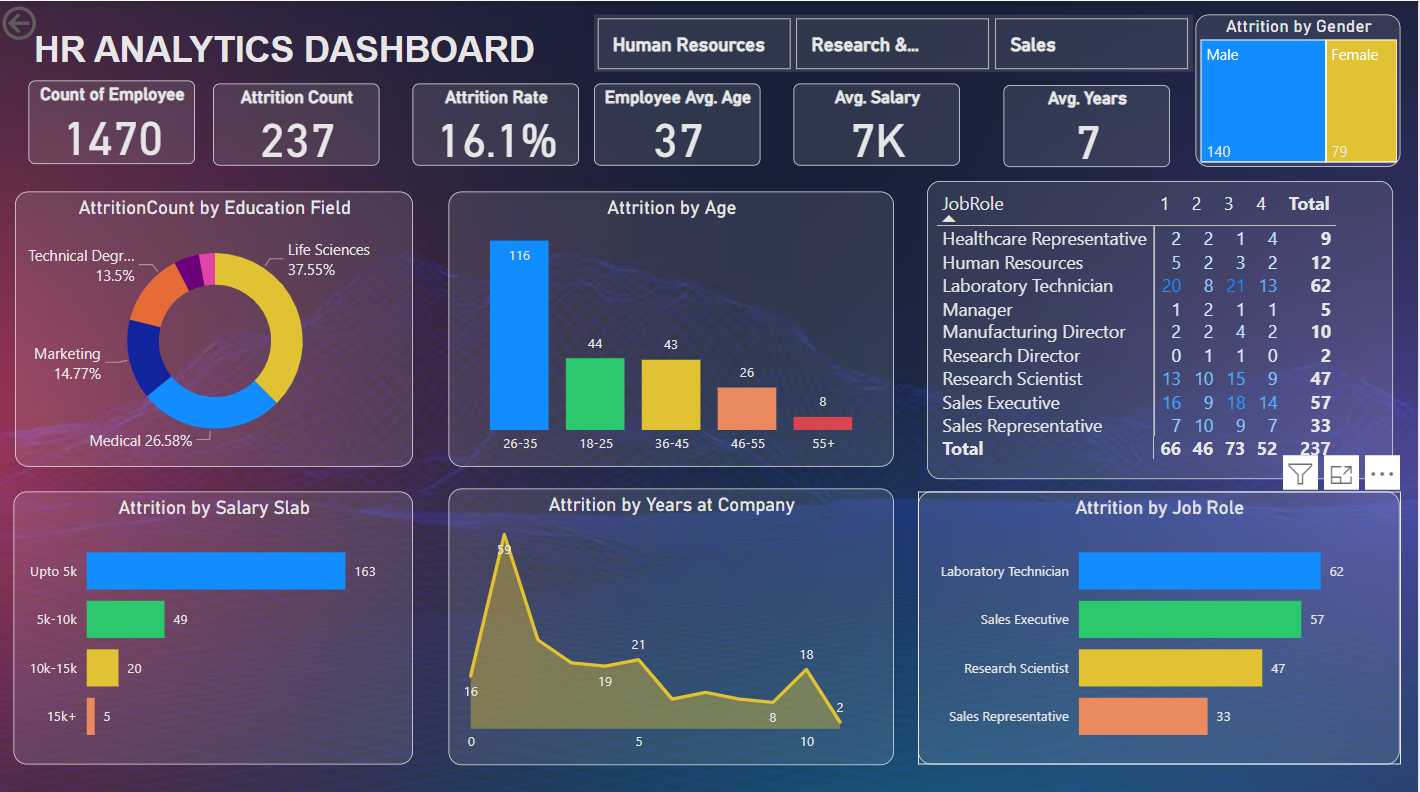

The dashboard page shown, as its layout file describes it:
{"tool":"powerbi","page":{"name":"Page 1","canvas":[1280,720],"ordinal":0},"visuals":[{"type":"card","title":"Count of Employee","fields":{"Values":["CountNonNull(HR_Analytics.EmpID)"]},"box":[28.6,71.8,150,75],"z":0},{"type":"card","title":"Attrition Count","fields":{"Values":["Sum(HR_Analytics.AttritionCount)"]},"box":[194.2,74.2,150,74.2],"z":1000},{"type":"card","title":"Attrition Rate","fields":{"Values":["HR_Analytics.AttritionRate"]},"box":[374.2,74.2,150,74.2],"z":2000},{"type":"card","title":"Employee Avg. Age ","fields":{"Values":["Avg(HR_Analytics.Age)"]},"box":[538.4,74.2,150,74.2],"z":3000},{"type":"card","title":"Avg. Salary","fields":{"Values":["Avg(HR_Analytics.MonthlyIncome)"]},"box":[718.4,74.2,150,74.2],"z":4000},{"type":"card","title":"Avg. Years","fields":{"Values":["Avg(HR_Analytics.YearsAtCompany)"]},"box":[906.3,75.8,150,74.2],"z":5000},{"type":"donutChart","title":"AttritionCount by Education Field","fields":{"Category":["HR_Analytics.EducationField"],"Y":["Sum(HR_Analytics.AttritionCount)"]},"box":[15.8,172.1,358.4,247.9],"z":6000},{"type":"columnChart","title":"Attrition by Age","fields":{"Category":["HR_Analytics.AgeGroup"],"Y":["Sum(HR_Analytics.AttritionCount)"]},"box":[407.4,172.1,401.1,247.9],"z":7000},{"type":"pivotTable","fields":{"Rows":["HR_Analytics.JobRole"],"Columns":["HR_Analytics.JobSatisfaction"],"Values":["Sum(HR_Analytics.AttritionCount)"]},"box":[838.4,162.6,420,268.4],"z":8000},{"type":"actionButton","box":[0,0,100,40],"z":9000},{"type":"barChart","title":"Attrition by Salary Slab","fields":{"Category":["HR_Analytics.SalarySlab"],"Y":["Sum(HR_Analytics.AttritionCount)"]},"box":[14.2,442.1,360,246.3],"z":10000},{"type":"barChart","title":"Attrition by Job Role","fields":{"Category":["HR_Analytics.JobRole"],"Y":["Sum(HR_Analytics.AttritionCount)"]},"box":[830.5,442.1,434.2,246.3],"z":11000},{"type":"areaChart","title":"Attrition by Years at Company","fields":{"Category":["HR_Analytics.YearsAtCompany"],"Y":["Sum(HR_Analytics.AttritionCount)"]},"box":[407.4,439,401.1,249.5],"z":12000},{"type":"treemap","title":"Attrition by Gender","fields":{"Values":["Sum(HR_Analytics.AttritionCount)"],"Group":["HR_Analytics.Gender"]},"box":[1080,12.6,184.7,137.4],"z":13000},{"type":"advancedSlicerVisual","fields":{"Values":["HR_Analytics.Department"]},"box":[538.4,12.6,540,52],"z":14000},{"type":"textbox","box":[28.4,20.3,509.6,52.7],"z":15000}]}

Visuals, with their boxes in screenshot pixels (x1, y1, x2, y2), scaled from the page's 1280x720 canvas onto the 1420x792 screenshot:
"Count of Employee" card: (32,79,198,161)
"Attrition Count" card: (215,82,382,163)
"Attrition Rate" card: (415,82,582,163)
"Employee Avg. Age " card: (597,82,764,163)
"Avg. Salary" card: (797,82,963,163)
"Avg. Years" card: (1005,83,1172,165)
"AttritionCount by Education Field" donutChart: (18,189,415,462)
"Attrition by Age" columnChart: (452,189,897,462)
pivotTable - HR_Analytics.JobRole x HR_Analytics.JobSatisfaction: (930,179,1396,474)
actionButton: (0,0,111,44)
"Attrition by Salary Slab" barChart: (16,486,415,757)
"Attrition by Job Role" barChart: (921,486,1403,757)
"Attrition by Years at Company" areaChart: (452,483,897,757)
"Attrition by Gender" treemap: (1198,14,1403,165)
advancedSlicerVisual - HR_Analytics.Department: (597,14,1196,71)
textbox: (32,22,597,80)
